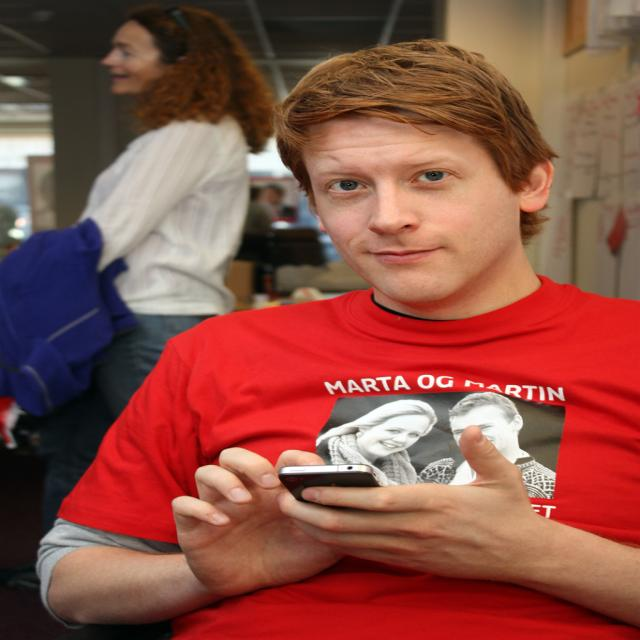Mobile-phone: (274, 461, 382, 504)
